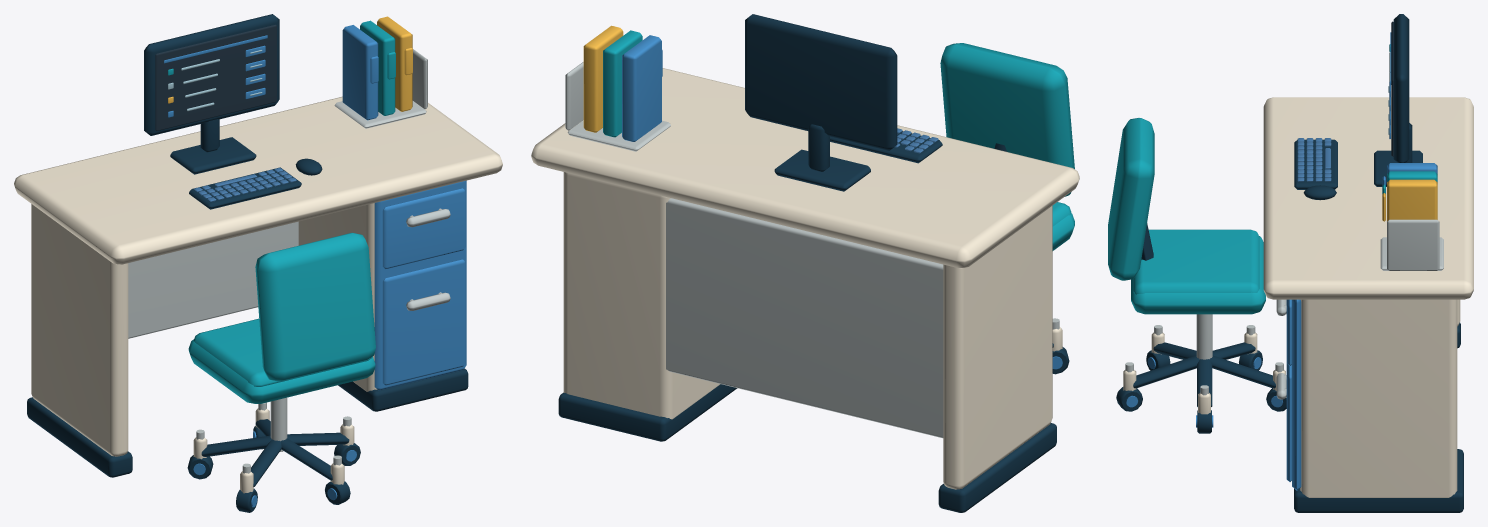
The model's file is medical-10.glb.
3 views of the same model, side by side, from view 1: azimuth 30°, elevation 25°; view 2: azimuth 150°, elevation 25°; view 3: azimuth 270°, elevation 25° (orthographic). The views are drawn at different scales.
Parts seen in each view (by area): view 1: 10_Charting_Workstation__desk, 10_Charting_Workstation__chair, 10_Charting_Workstation__computer, 10_Charting_Workstation__folders; view 2: 10_Charting_Workstation__desk, 10_Charting_Workstation__computer, 10_Charting_Workstation__chair, 10_Charting_Workstation__folders; view 3: 10_Charting_Workstation__desk, 10_Charting_Workstation__chair, 10_Charting_Workstation__computer, 10_Charting_Workstation__folders.
Boxes of the visible parts, x1,y1,x2,y2 form: 10_Charting_Workstation__desk: (14, 96, 502, 477); 10_Charting_Workstation__chair: (187, 232, 375, 512); 10_Charting_Workstation__computer: (144, 14, 322, 209); 10_Charting_Workstation__folders: (334, 16, 427, 128); 10_Charting_Workstation__desk: (531, 68, 1079, 512); 10_Charting_Workstation__computer: (745, 14, 942, 191); 10_Charting_Workstation__chair: (940, 43, 1074, 374); 10_Charting_Workstation__folders: (565, 25, 670, 151); 10_Charting_Workstation__desk: (1263, 97, 1473, 512); 10_Charting_Workstation__chair: (1108, 118, 1286, 433); 10_Charting_Workstation__computer: (1294, 14, 1422, 200); 10_Charting_Workstation__folders: (1380, 163, 1443, 270).
Size of the model in its own units: 1.46 by 1.32 by 1.18.
1 material, 1 textured.
